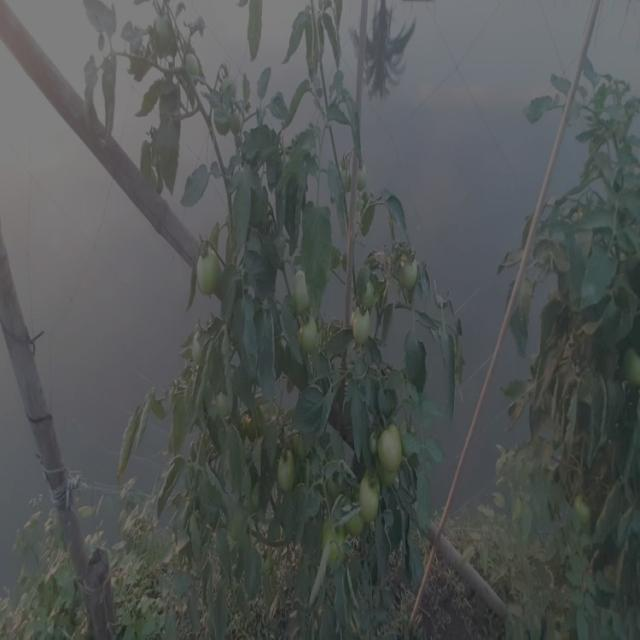tomato: (359, 472, 395, 526), (374, 419, 408, 476), (192, 243, 226, 294), (346, 299, 378, 347), (395, 248, 427, 295), (274, 443, 305, 488), (286, 268, 315, 313), (295, 318, 325, 358), (206, 390, 240, 425), (320, 517, 342, 570), (187, 330, 215, 370), (574, 493, 595, 532), (625, 345, 640, 387)
